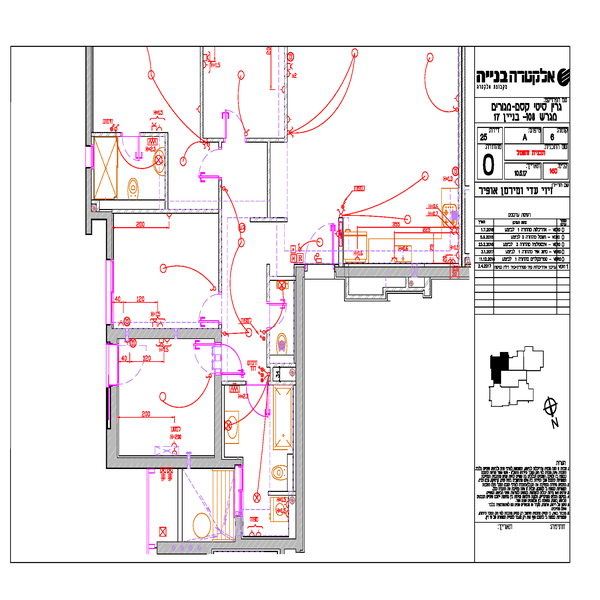door: (107, 341, 168, 384), (306, 218, 340, 272), (211, 341, 251, 383), (116, 134, 155, 174), (241, 383, 279, 424), (217, 107, 248, 143), (196, 291, 226, 326), (197, 151, 225, 180)
room: (272, 46, 466, 279), (86, 46, 221, 216), (102, 325, 223, 472), (218, 377, 306, 551), (105, 213, 228, 334)
wall: (294, 264, 306, 552), (120, 455, 245, 470), (159, 541, 302, 553), (336, 264, 465, 276), (99, 328, 222, 340), (215, 379, 230, 459), (85, 45, 96, 145), (107, 387, 120, 467), (83, 167, 95, 232), (105, 208, 113, 255)
window: (103, 259, 117, 326), (233, 466, 247, 515)
